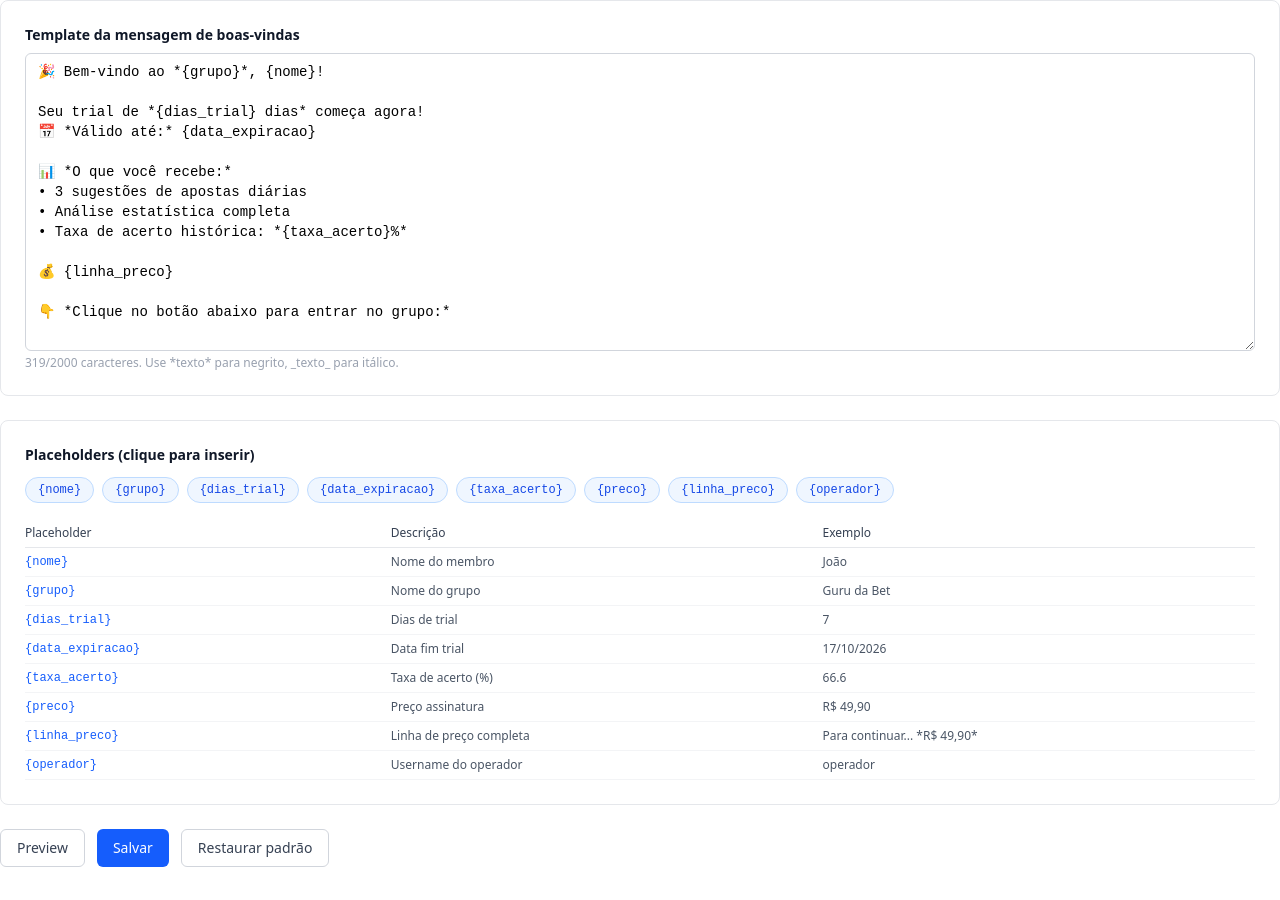
OnboardingEditor › shows preview with replaced placeholders and formatted price
Step 1. Click the button "Preview" → (42, 848), box [0,829,85,867]
(page scrolled)
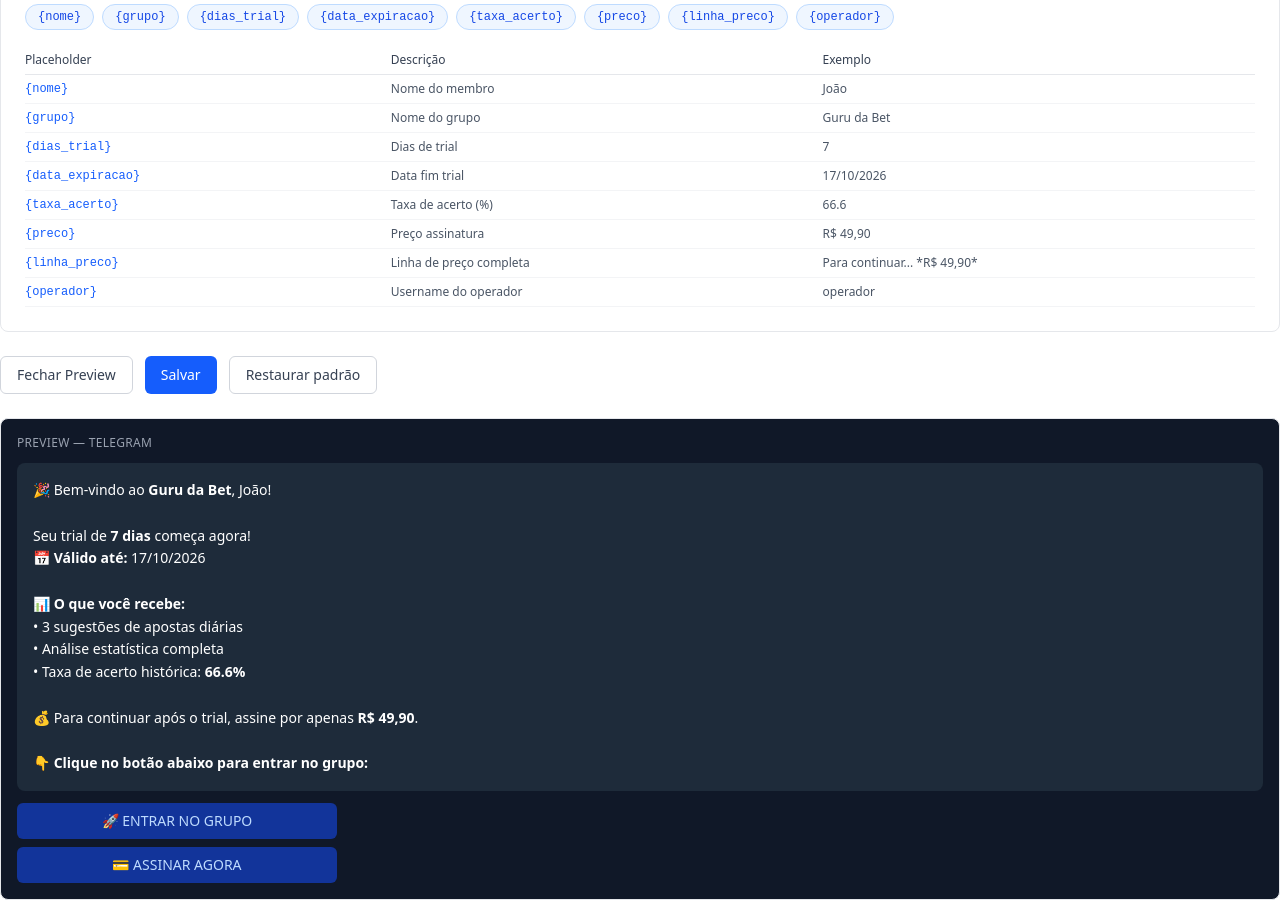
Now the text "João" is shown, box [232,480,271,499]
Now the text "João" shows "7 dias", box [111,526,151,544]
